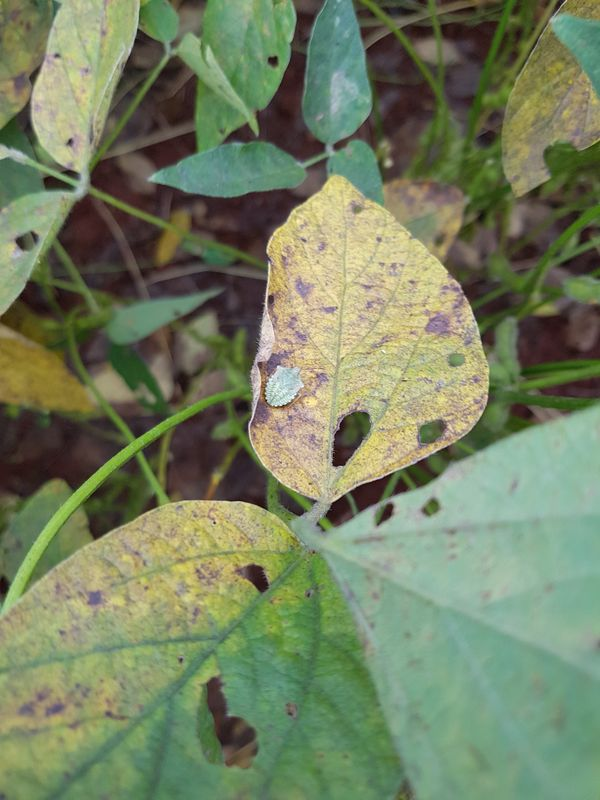Euschistus_heros_ninfa: (255, 358, 311, 414)
